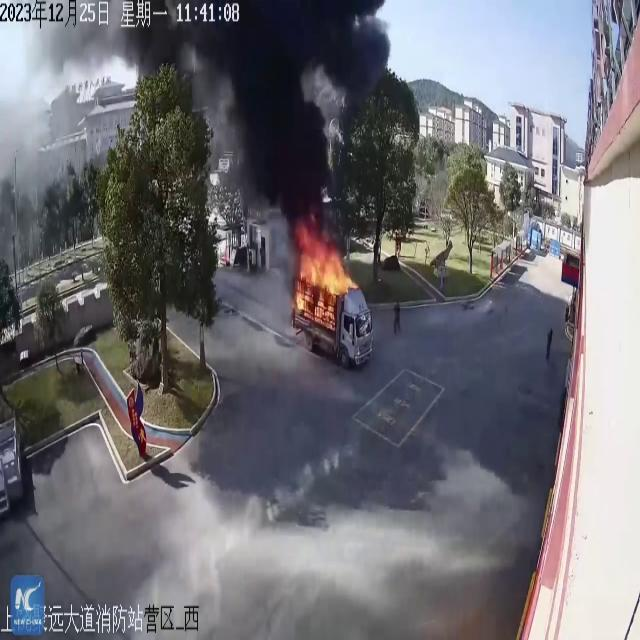Fire: (292, 235, 356, 322)
Smoke: (193, 0, 339, 238)
